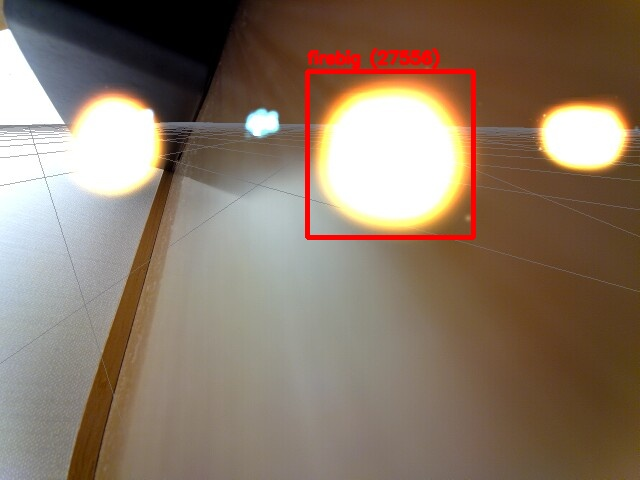firebig: (307, 71, 473, 237)
